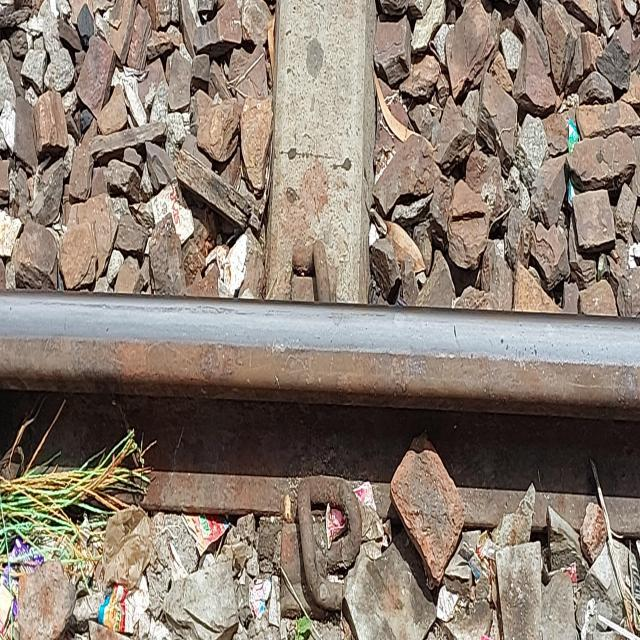broken_rail_medium: (453, 322, 461, 356), (500, 336, 509, 352), (532, 342, 538, 360), (63, 317, 69, 335), (105, 323, 109, 337), (470, 352, 474, 361)
